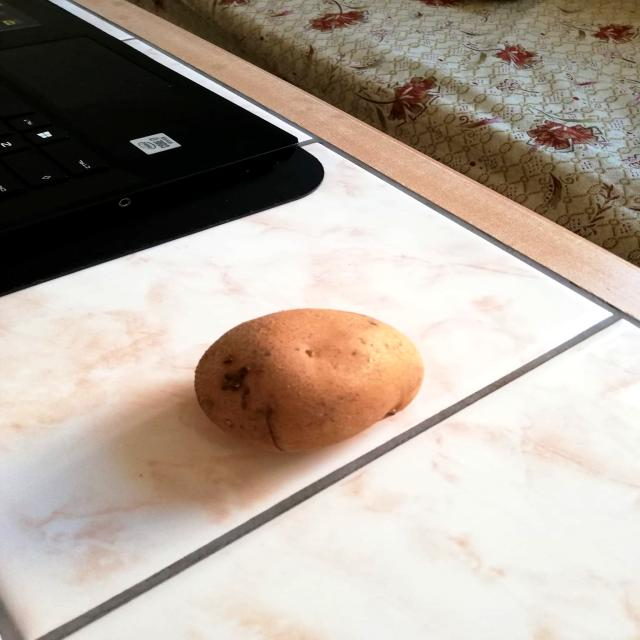potato: (190, 300, 432, 458)
